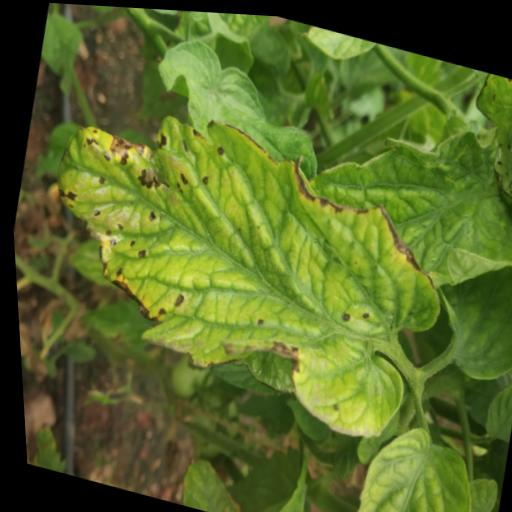Early Blight: (10, 69, 472, 454)
